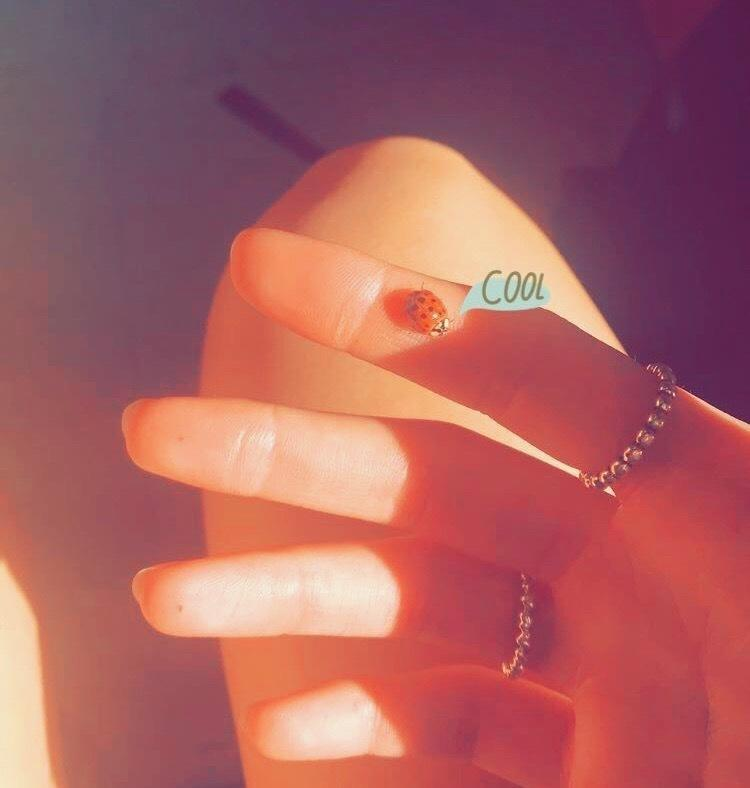ladybug: (404, 284, 456, 340)
